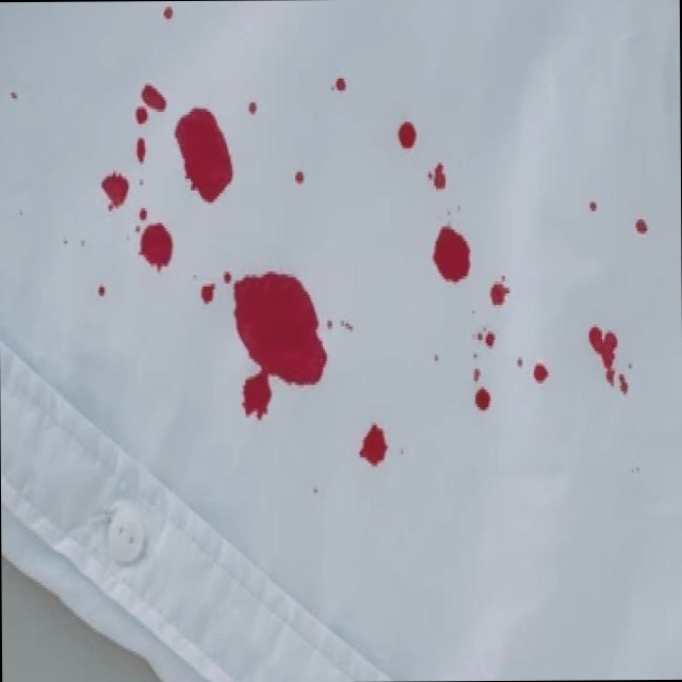blood: (406, 218, 559, 419), (94, 85, 235, 273), (226, 263, 332, 423)
